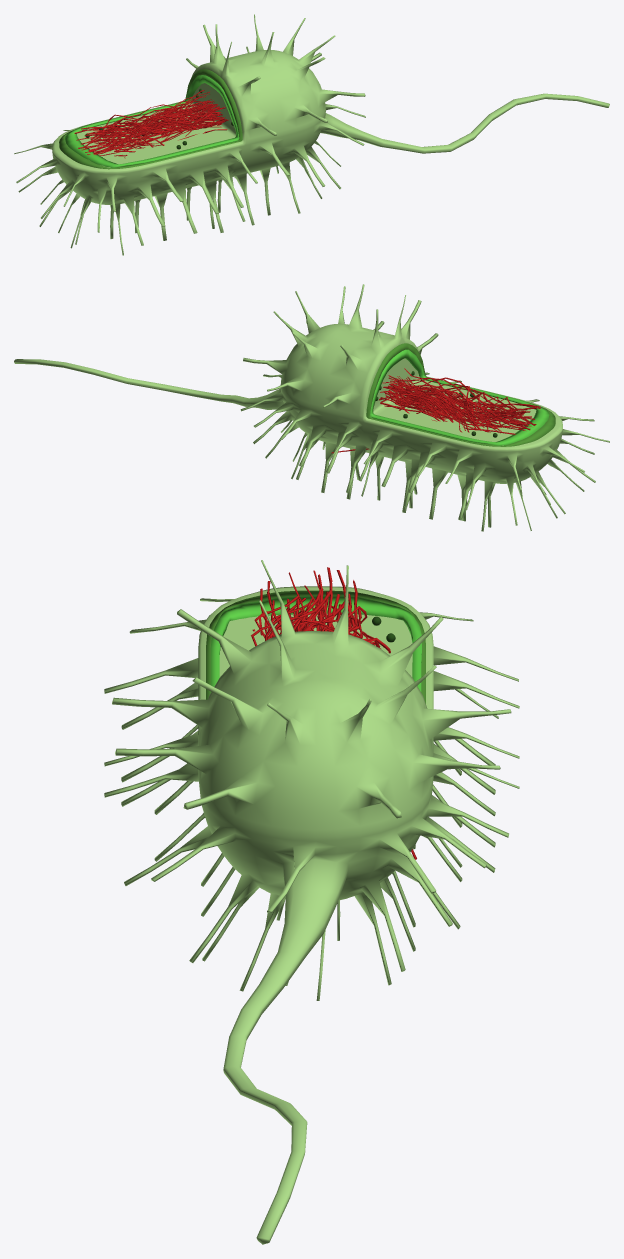
File: rod-bacteria.glb
The picture shows the model from 3 angles, top to bottom: view 1: azimuth 30°, elevation 25°; view 2: azimuth 150°, elevation 25°; view 3: azimuth 270°, elevation 25°; orthographic projection. The views are drawn at different scales.
Visible parts, largest first — view 1: main, Center, Inner_Inner_Layer, Outter_Inner_Layer; view 2: main, Center, Inner_Inner_Layer, Outter_Inner_Layer; view 3: main, Center, Inner_Inner_Layer, Outter_Inner_Layer.
Part boxes in pixels (<box>): main: <box>14,14,609,255</box>; Center: <box>74,90,228,158</box>; Inner_Inner_Layer: <box>65,75,239,167</box>; Outter_Inner_Layer: <box>59,69,242,169</box>; main: <box>14,284,609,531</box>; Center: <box>331,368,540,453</box>; Inner_Inner_Layer: <box>370,349,549,445</box>; Outter_Inner_Layer: <box>366,343,555,446</box>; main: <box>104,560,519,1244</box>; Center: <box>251,567,416,859</box>; Inner_Inner_Layer: <box>210,595,421,692</box>; Outter_Inner_Layer: <box>206,590,425,703</box>.
Size of the model in its own units: 11.21 by 3.49 by 3.52.
